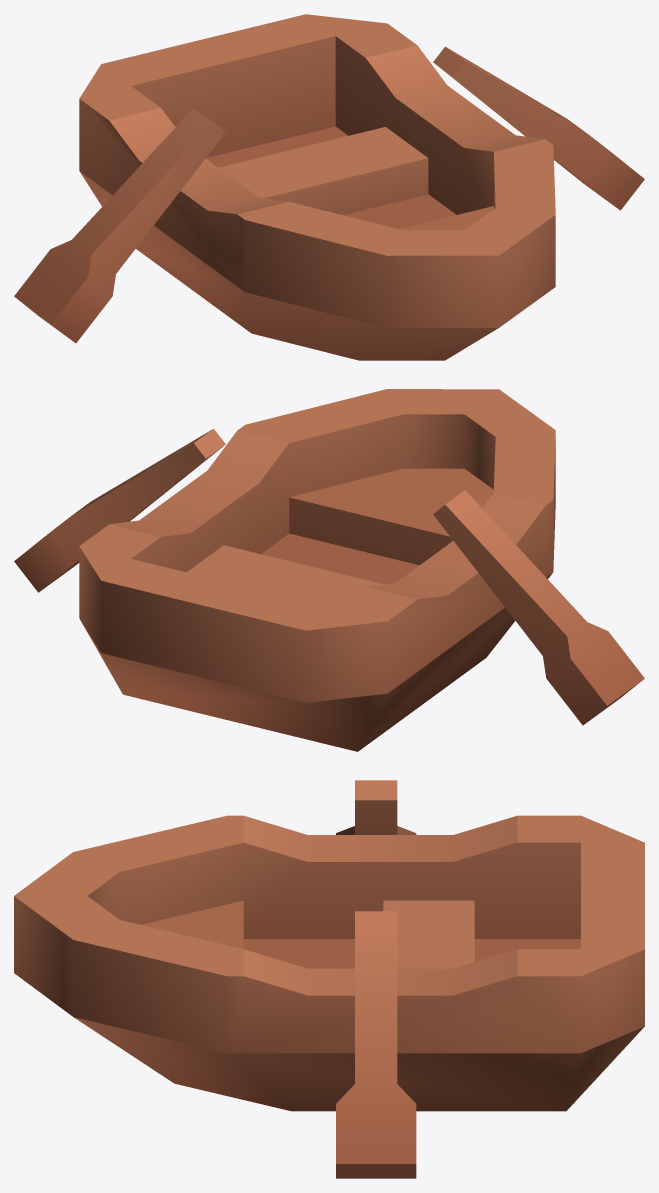
File: rowboat-small.glb
3 renders of one model, top to bottom at view 1: azimuth 30°, elevation 25°; view 2: azimuth 150°, elevation 25°; view 3: azimuth 270°, elevation 25°, orthographic. The views are drawn at different scales.
Visible parts, largest first — view 1: boat-row-small, paddles; view 2: boat-row-small, paddles; view 3: boat-row-small, paddles.
Part boxes in pixels (bbox=[...]): boat-row-small: bbox=[79, 14, 555, 360]; paddles: bbox=[14, 46, 644, 343]; boat-row-small: bbox=[79, 389, 555, 751]; paddles: bbox=[14, 428, 644, 725]; boat-row-small: bbox=[14, 815, 644, 1111]; paddles: bbox=[336, 780, 416, 1178].
Size of the model in its own units: 2.75 by 0.8477 by 2.37.
